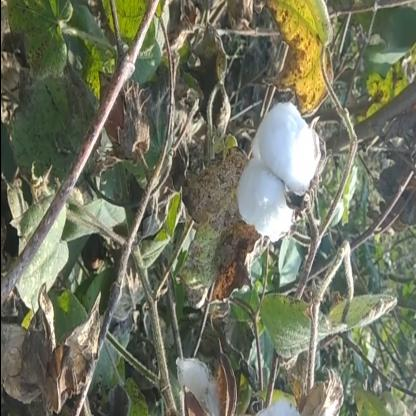cotton_ready: (232, 91, 326, 252)
